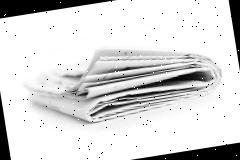paper: (19, 29, 226, 132)
